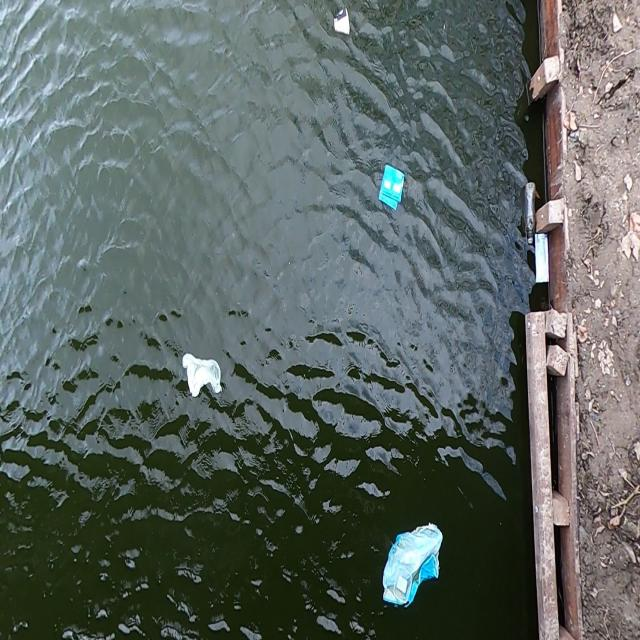Autre plastique: (374, 159, 408, 214)
Bouteille plastique: (523, 177, 538, 248)
Non plastique: (331, 6, 354, 39)
Sac plastique: (378, 524, 448, 616), (179, 351, 225, 397)
